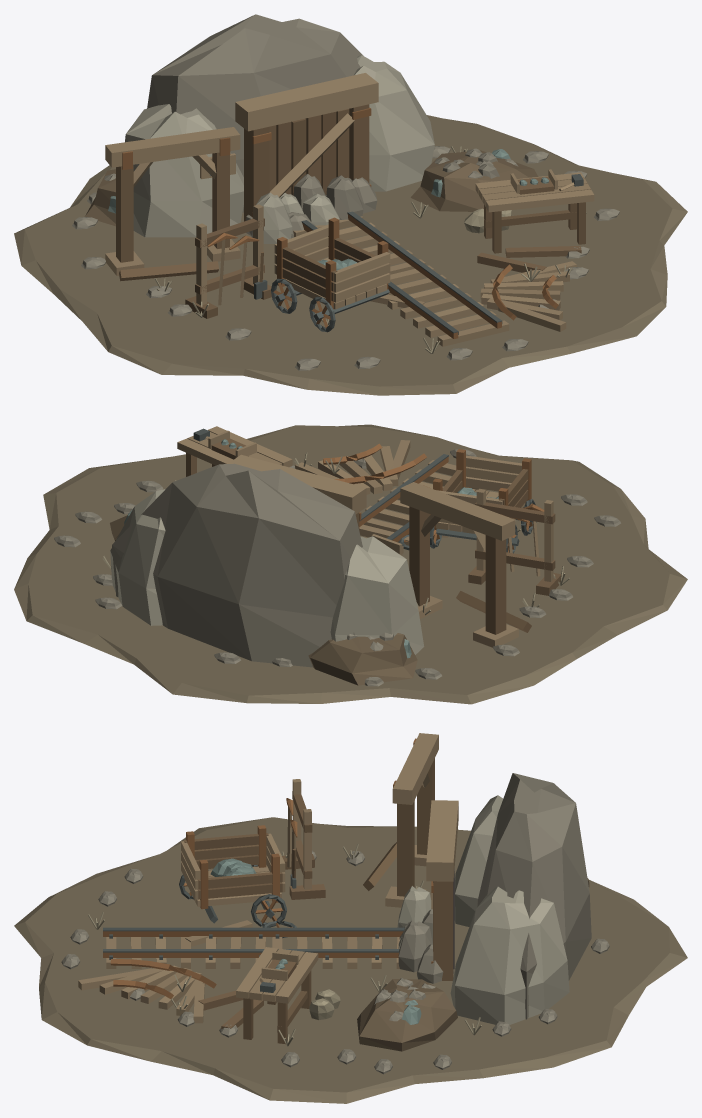
File: hollowvein-diggings.glb
The picture shows the model from 3 angles, top to bottom: view 1: azimuth 30°, elevation 25°; view 2: azimuth 150°, elevation 25°; view 3: azimuth 270°, elevation 25°; orthographic projection.
Parts seen in each view (by area): view 1: hollowvein-diggings; view 2: hollowvein-diggings; view 3: hollowvein-diggings.
Boxes of the visible parts, <box> form: hollowvein-diggings: <box>14,14,687,395</box>; hollowvein-diggings: <box>14,424,687,704</box>; hollowvein-diggings: <box>14,733,687,1103</box>.
Bounding box in the file's own units: 12.12 × 3.36 × 12.17.
